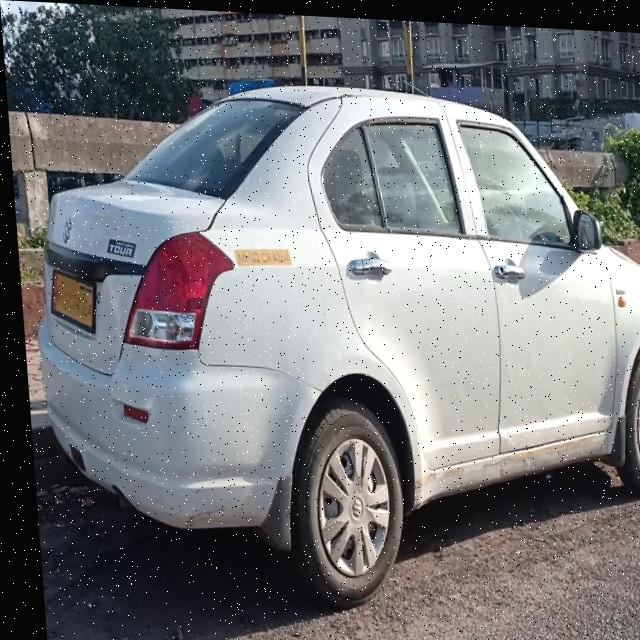plate: (43, 268, 97, 336), (229, 244, 291, 268)
